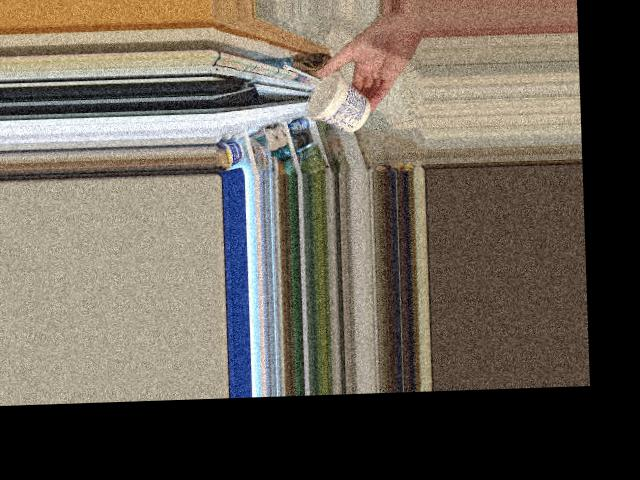cotage: (303, 72, 372, 128)
